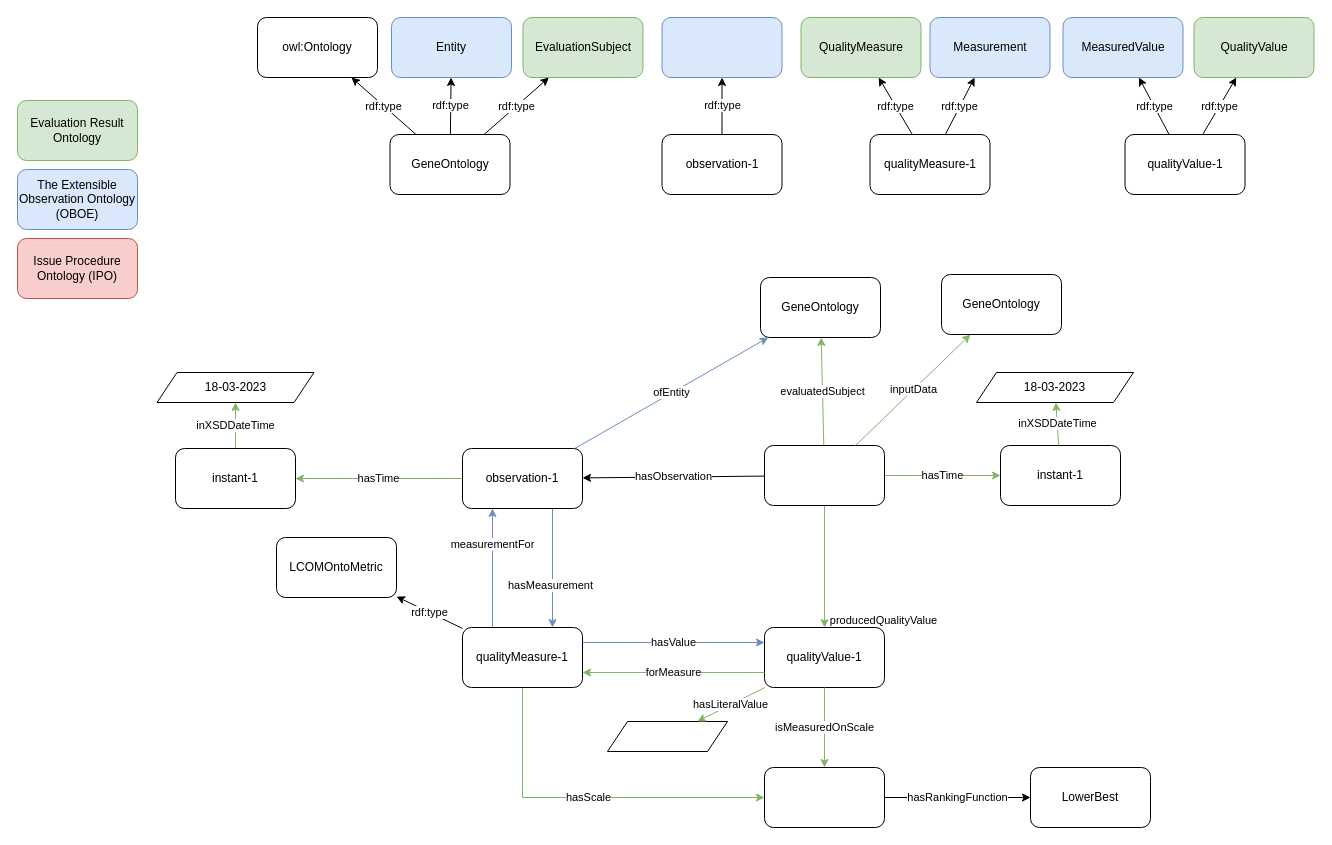
The diagram is 1332 pixels wide and 845 high, and some of its shapes have lost their labels. Here are the shapes that lost their labels. From the top down, the box of each, then its label:
(661, 16, 782, 78): Observation
(764, 444, 884, 506): evaluation-1
(606, 720, 728, 752): 5^^xsd:integer
(764, 766, 884, 828): scale-1
